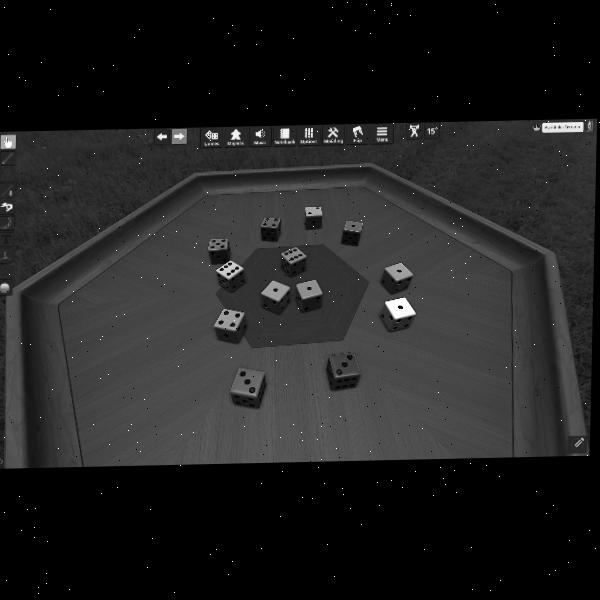d6: (230, 366, 267, 409), (325, 351, 360, 390), (214, 309, 248, 345), (380, 296, 414, 332), (260, 279, 290, 314), (215, 259, 246, 292), (380, 262, 411, 294), (293, 279, 322, 313), (280, 246, 306, 277), (209, 237, 232, 263), (340, 220, 363, 246), (259, 216, 281, 242), (304, 205, 322, 229)
